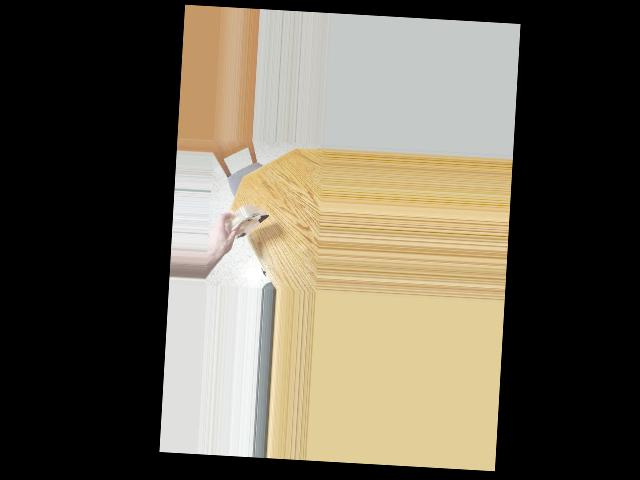cheese: (222, 193, 264, 246)
